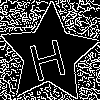H: (24, 29, 69, 83)
